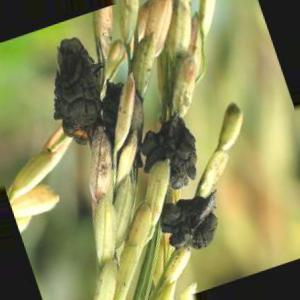False Smut: (56, 41, 107, 147), (141, 113, 193, 184), (163, 200, 221, 255)
